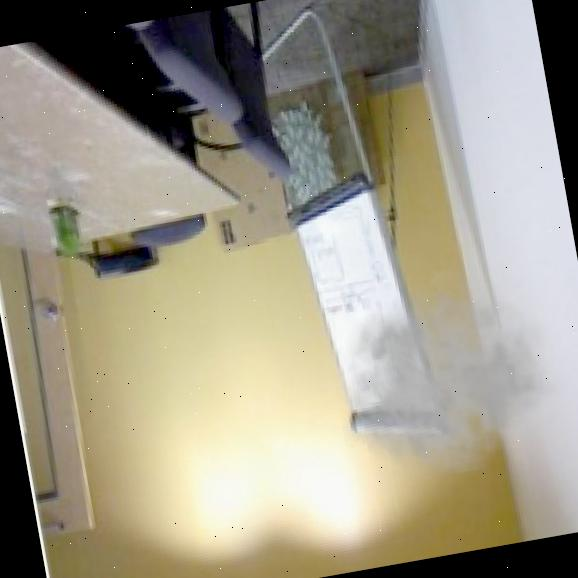smoke: (317, 248, 578, 494)
